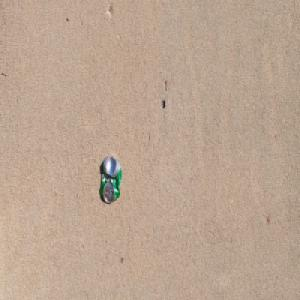SodaCan: (99, 154, 122, 204)
